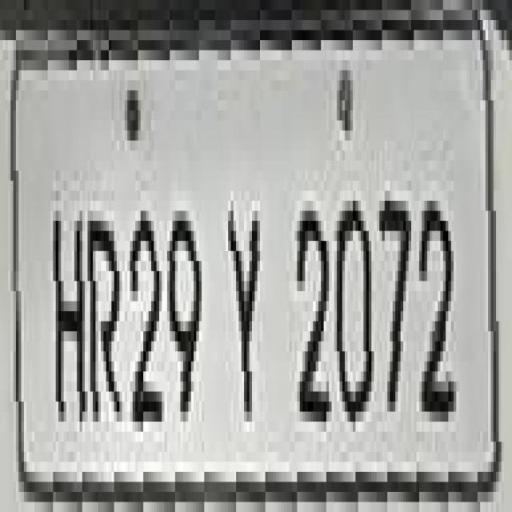number plate: (13, 30, 512, 502)
